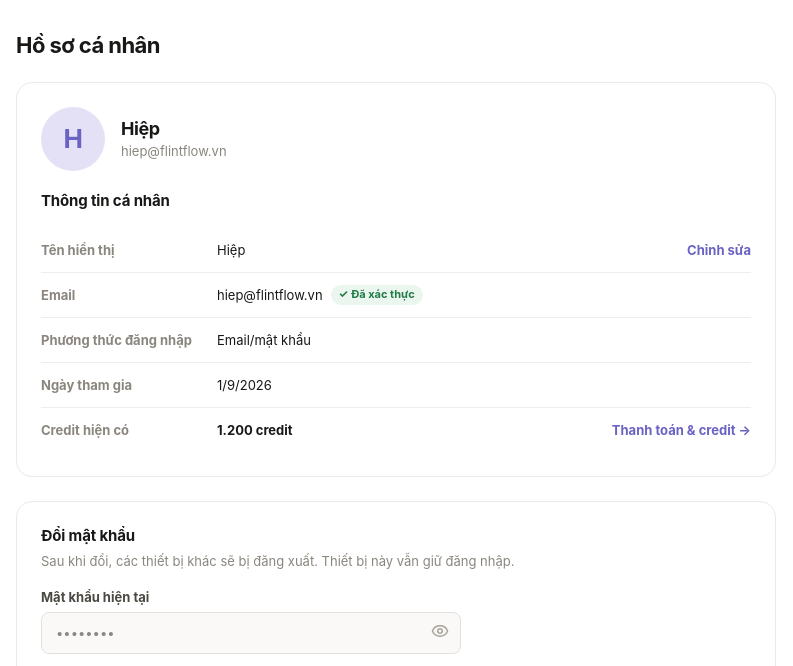
ProfilePage › sai mật khẩu hiện tại ⇒ báo đỏ ngay dưới ô mật khẩu hiện tại
The width and height of the screenshot is (793, 666).
Expected: the heading "Thông tin cá nhân" is shown, x1=41 y1=191 x2=170 y2=210
In the password field labelled "Mật khẩu hiện tại": (251, 633) x1=41 y1=612 x2=461 y2=654, type "wrong-password"
(page scrolled)
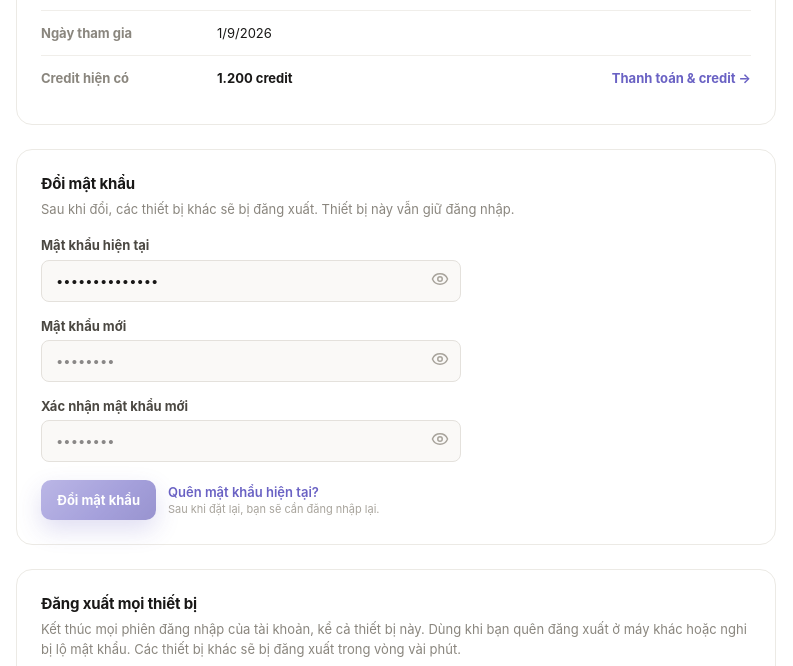
In the password field labelled "Mật khẩu mới": (251, 361) x1=41 y1=340 x2=461 y2=382, type "new-password-456"
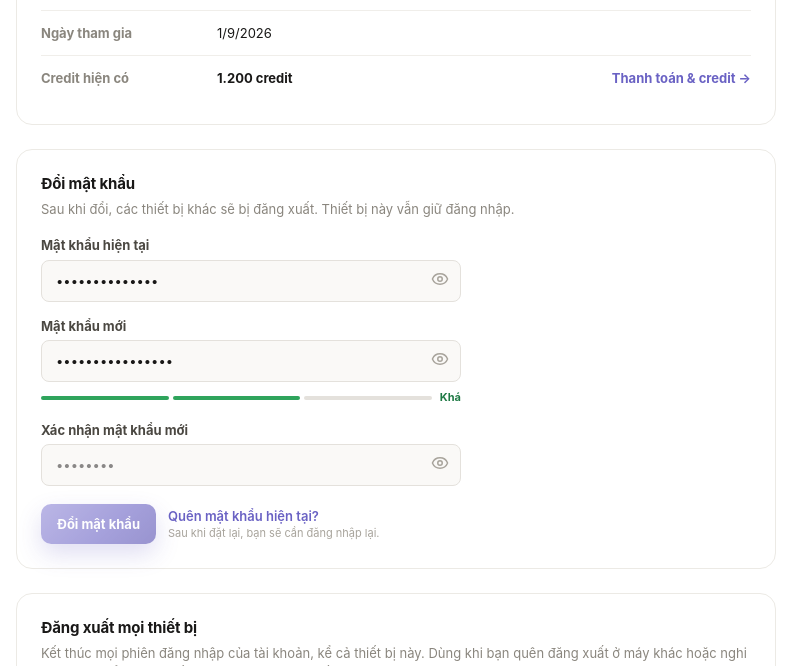
In the password field labelled "Xác nhận mật khẩu mới": (251, 465) x1=41 y1=444 x2=461 y2=486, type "new-password-456"
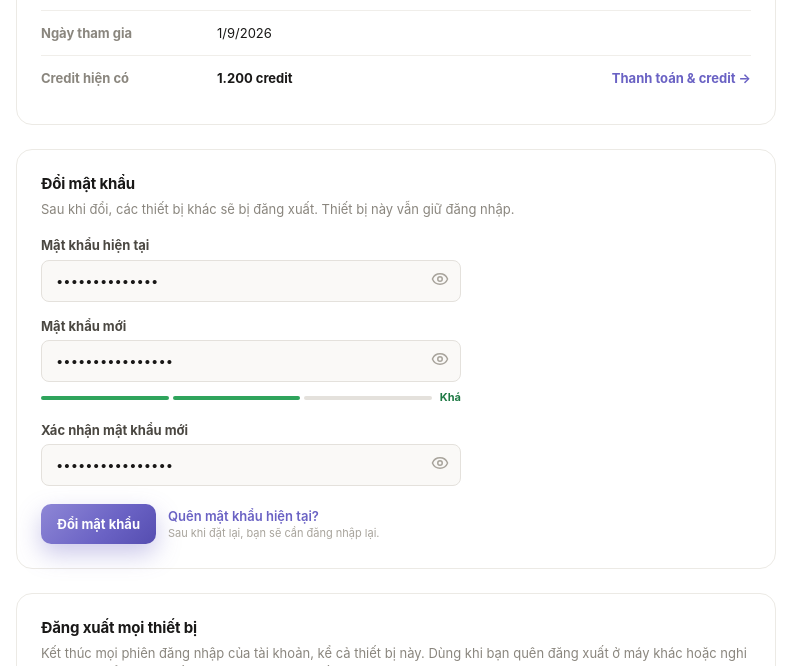
Click the button "Đổi mật khẩu": (98, 524) x1=41 y1=504 x2=156 y2=544
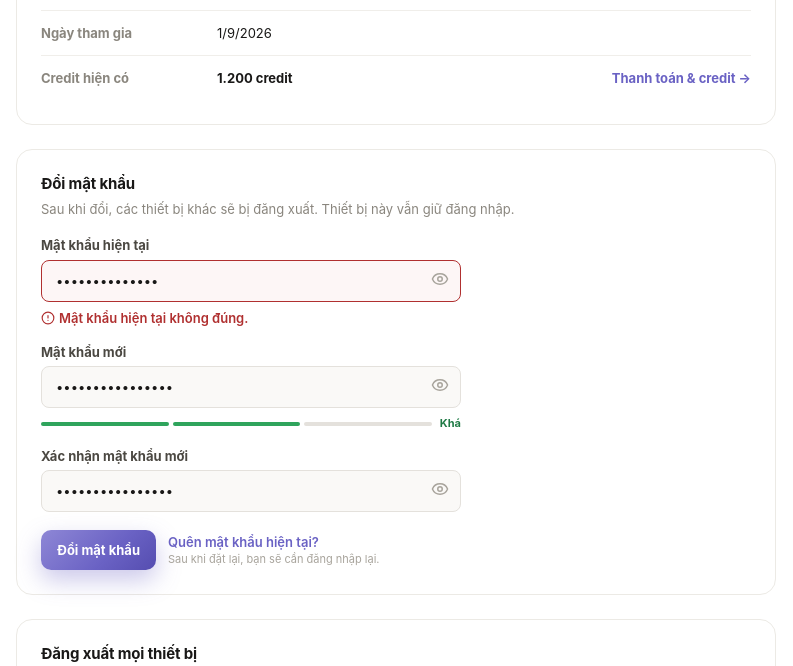
Now the text "Mật khẩu hiện tại không đúng." is shown, box x1=41 y1=310 x2=248 y2=326
